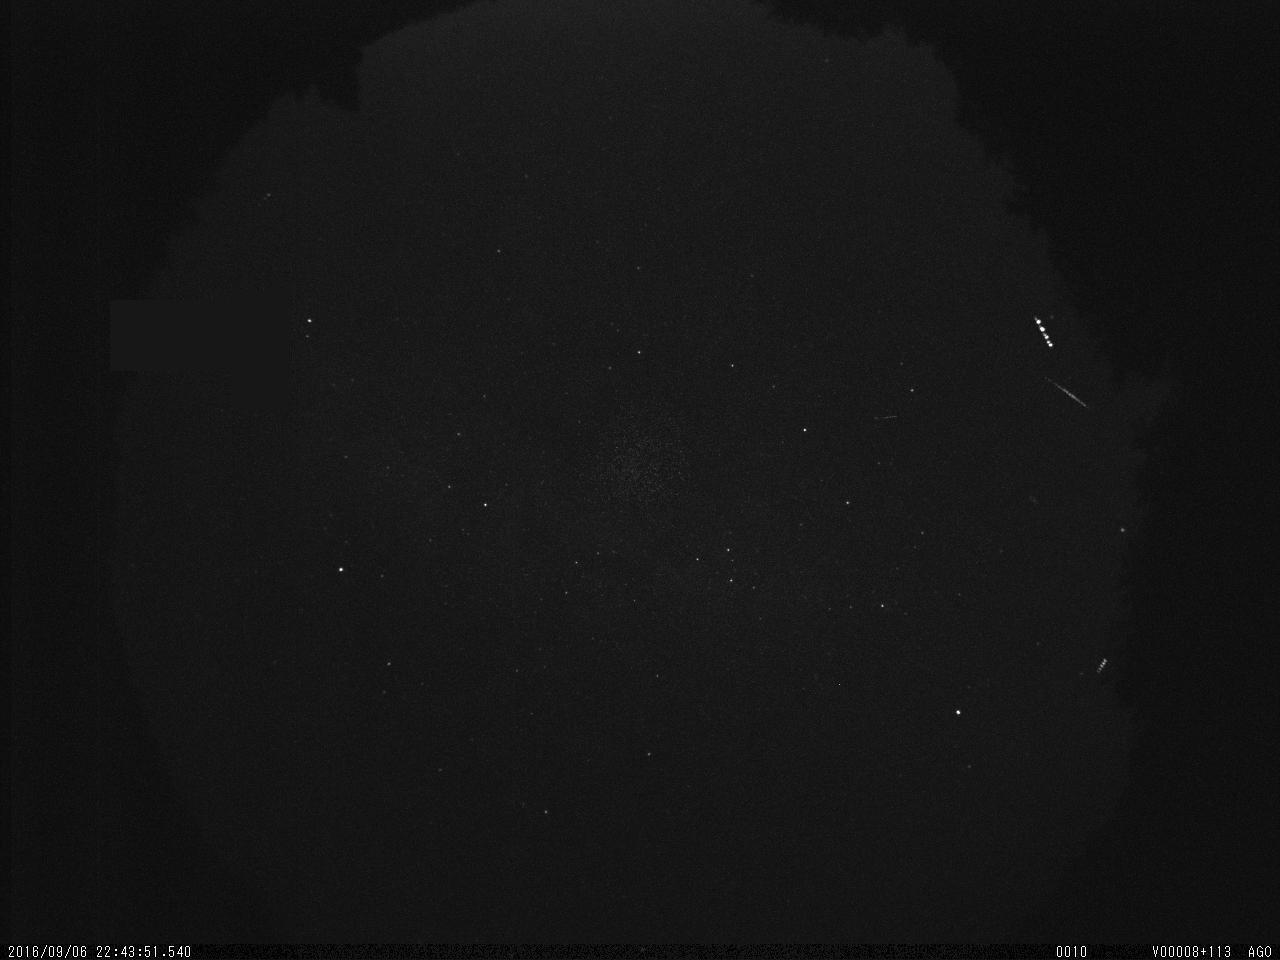meteor: (1034, 365, 1105, 417)
satelite: (1027, 304, 1063, 356)
